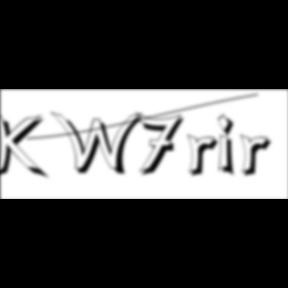7: (136, 111, 190, 179)
K: (0, 110, 50, 182)
W: (50, 110, 148, 178)
i: (218, 112, 242, 180)
r: (187, 134, 225, 180), (240, 134, 278, 180)
